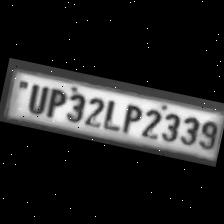2: (137, 104, 164, 141), (81, 92, 107, 128)
3: (156, 106, 182, 144), (61, 88, 88, 124), (176, 111, 200, 147)
9: (193, 115, 220, 151)
L: (99, 96, 122, 132)
P: (116, 99, 142, 136), (42, 84, 68, 119)
U: (22, 80, 50, 116)
